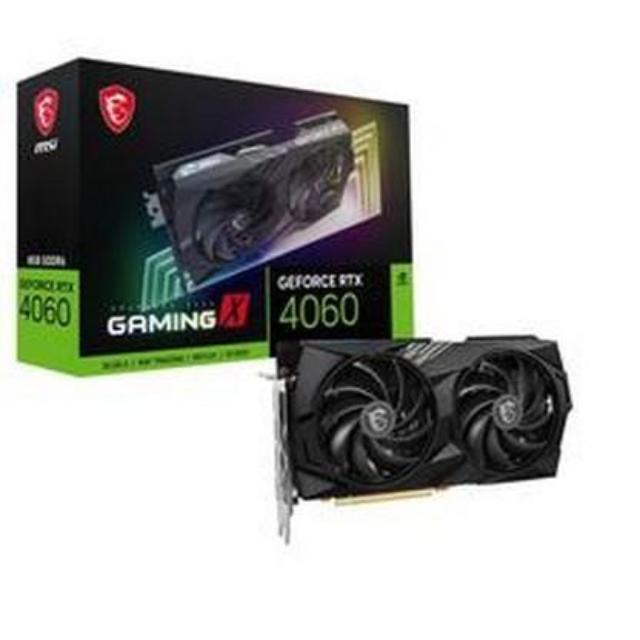GPU: (271, 332, 577, 500)
